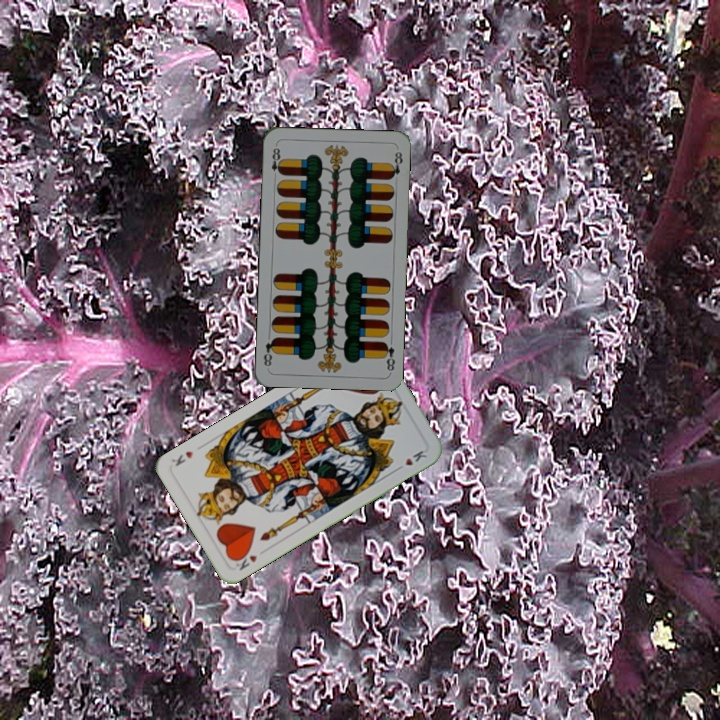E8: (267, 142, 285, 182), (379, 338, 398, 373)
HK: (230, 547, 260, 573)
